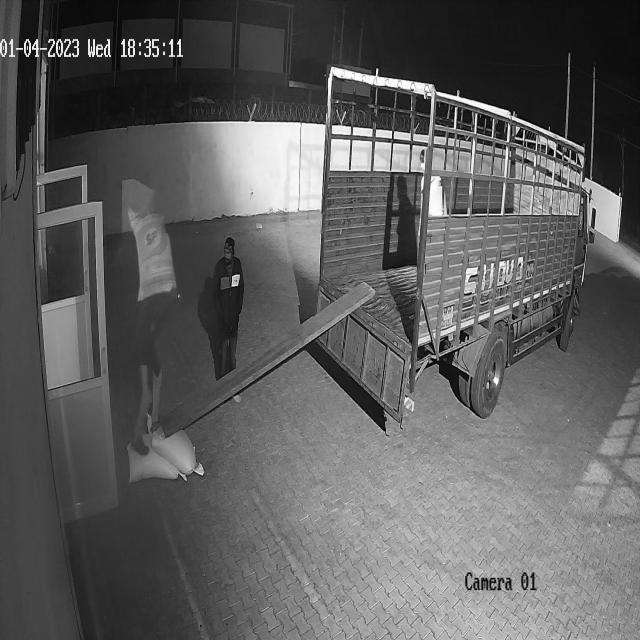sack: (128, 207, 178, 299), (145, 412, 204, 475), (126, 435, 186, 482)
